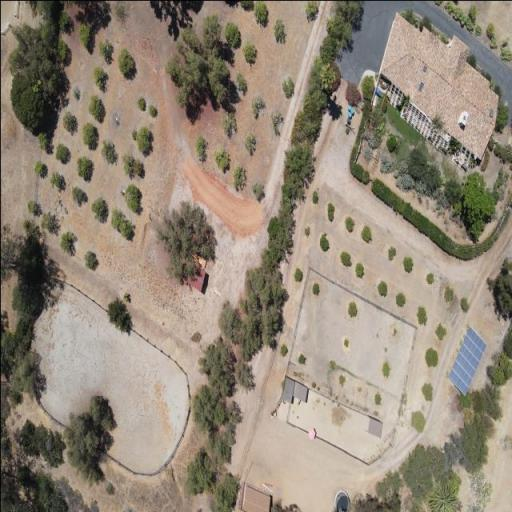solar-panel: (447, 325, 486, 395)
